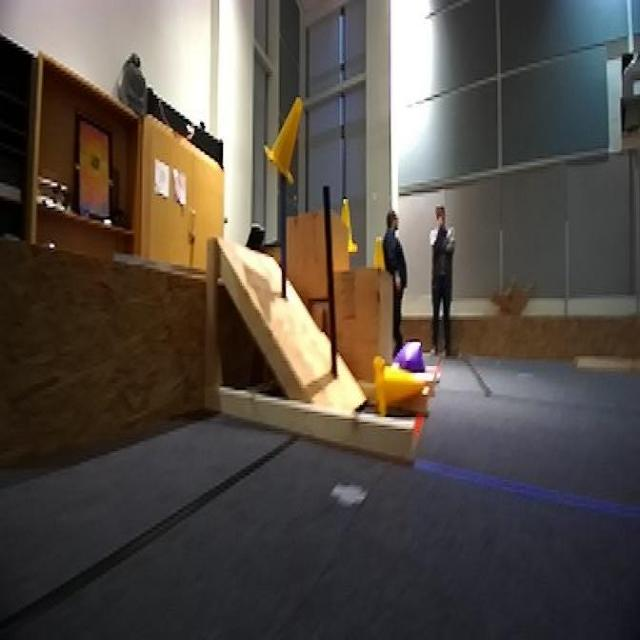frc_cone: (263, 97, 307, 186), (370, 352, 426, 420), (332, 192, 360, 255), (366, 230, 390, 274)
frc_cube: (399, 344, 428, 381)
